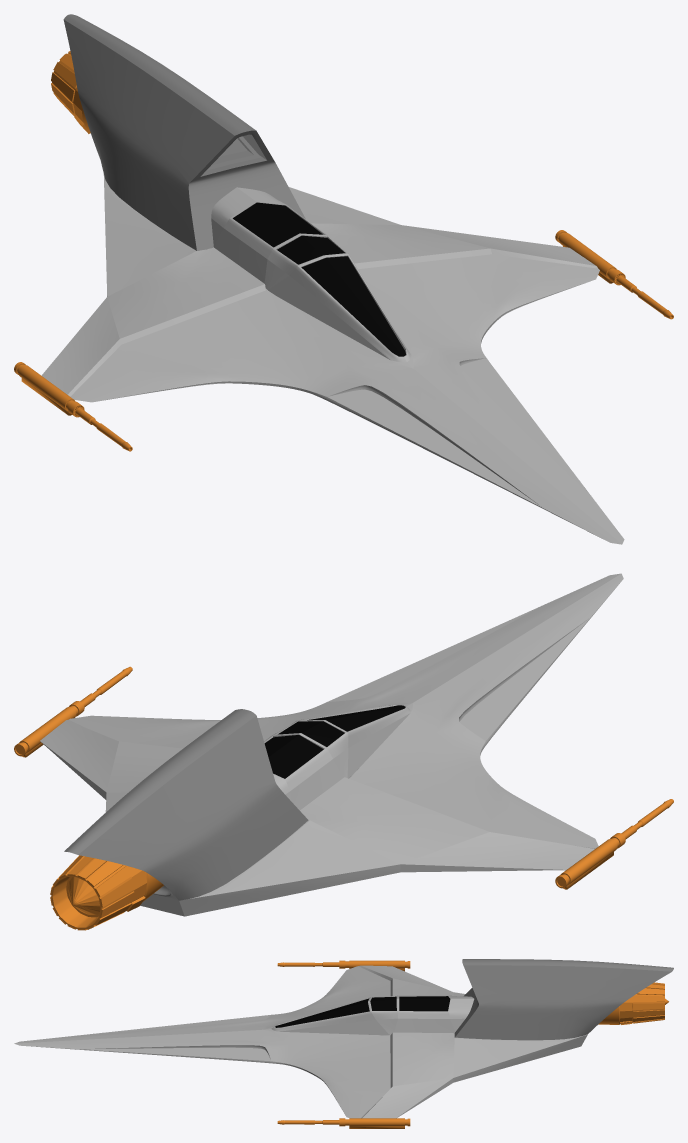
File: rff.obj
3 views of the same model, one above another, from view 1: azimuth 30°, elevation 25°; view 2: azimuth 150°, elevation 25°; view 3: azimuth 270°, elevation 25° (orthographic). The views are drawn at different scales.
Visible parts, largest first — view 1: fighter, enginecanopy, cockpitglass, guns, engine; view 2: fighter, enginecanopy, engine, cockpitglass, guns; view 3: fighter, enginecanopy, cockpitglass, guns, engine.
Part boxes in pixels (x1=…): fighter: x1=41, y1=174, x2=624, y2=544; enginecanopy: x1=63, y1=14, x2=305, y2=250; cockpitglass: x1=233, y1=202, x2=406, y2=356; guns: x1=14, y1=230, x2=673, y2=451; engine: x1=51, y1=51, x2=90, y2=133; fighter: x1=40, y1=573, x2=623, y2=916; enginecanopy: x1=64, y1=709, x2=308, y2=900; engine: x1=50, y1=855, x2=163, y2=930; cockpitglass: x1=264, y1=705, x2=405, y2=778; guns: x1=14, y1=666, x2=673, y2=889; fighter: x1=14, y1=965, x2=587, y2=1118; enginecanopy: x1=454, y1=959, x2=673, y2=1040; cockpitglass: x1=275, y1=996, x2=450, y2=1027; guns: x1=277, y1=960, x2=410, y2=1128; engine: x1=598, y1=982, x2=668, y2=1024.
Size of the model in its own units: 3.04 by 0.7879 by 5.26.
